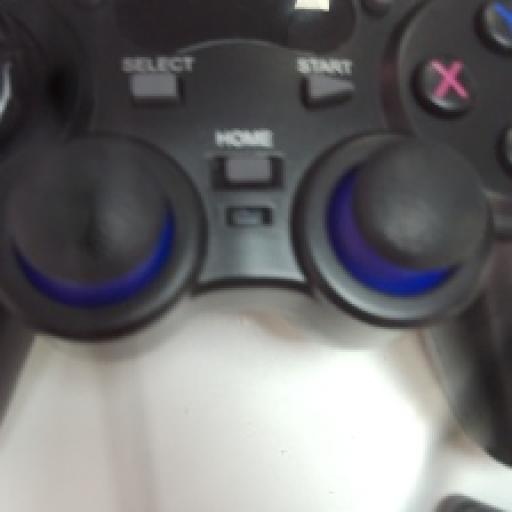game pad: (0, 0, 510, 464)
